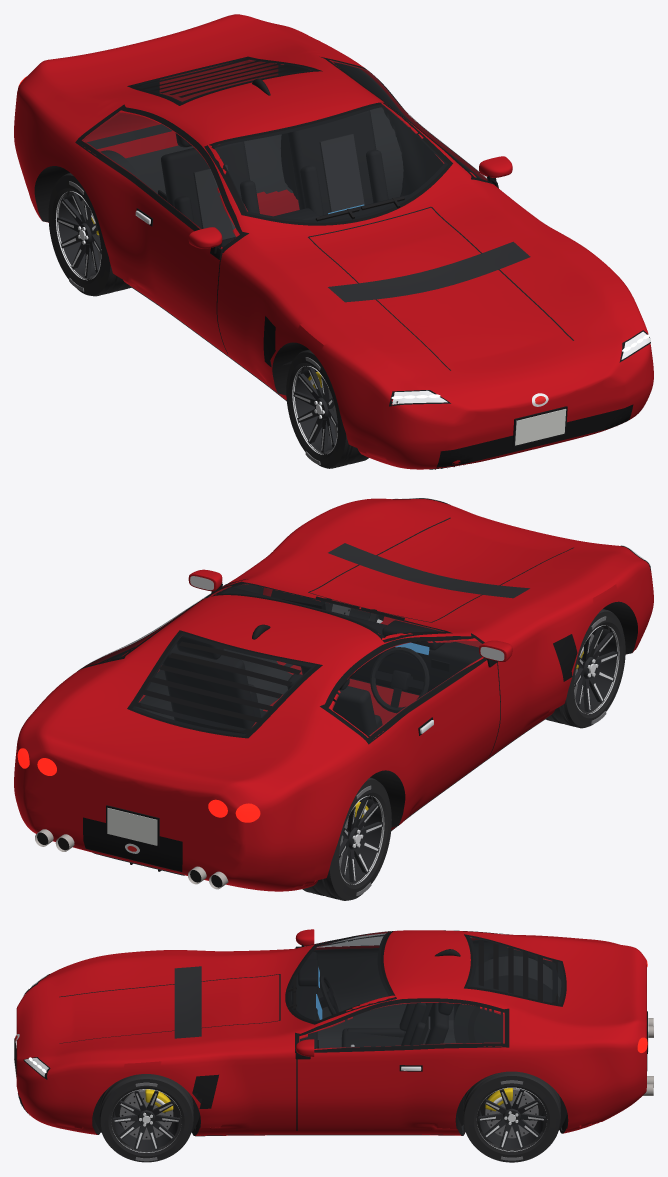
The picture shows the model from 3 angles, top to bottom: view 1: azimuth 30°, elevation 25°; view 2: azimuth 150°, elevation 25°; view 3: azimuth 270°, elevation 25°; orthographic projection. The views are drawn at different scales.
Visible parts, largest first — view 1: Body, Wheel_RR, Wheel_FR; view 2: Body, Wheel_RR, Wheel_FR; view 3: Body, Wheel_RL, Wheel_FL, Wheel_RR.
Boxes of the visible parts, left/top/right/bottom form: Body: left=14, top=14, right=653, bottom=469; Wheel_RR: left=48, top=173, right=131, bottom=296; Wheel_FR: left=286, top=349, right=368, bottom=468; Body: left=14, top=498, right=653, bottom=891; Wheel_RR: left=302, top=777, right=391, bottom=900; Wheel_FR: left=545, top=609, right=625, bottom=728; Body: left=14, top=929, right=653, bottom=1136; Wheel_RL: left=463, top=1071, right=560, bottom=1162; Wheel_FL: left=99, top=1074, right=193, bottom=1162; Wheel_RR: left=467, top=989, right=537, bottom=1042.
Size of the model in its own units: 2.12 by 1.33 by 4.76.
